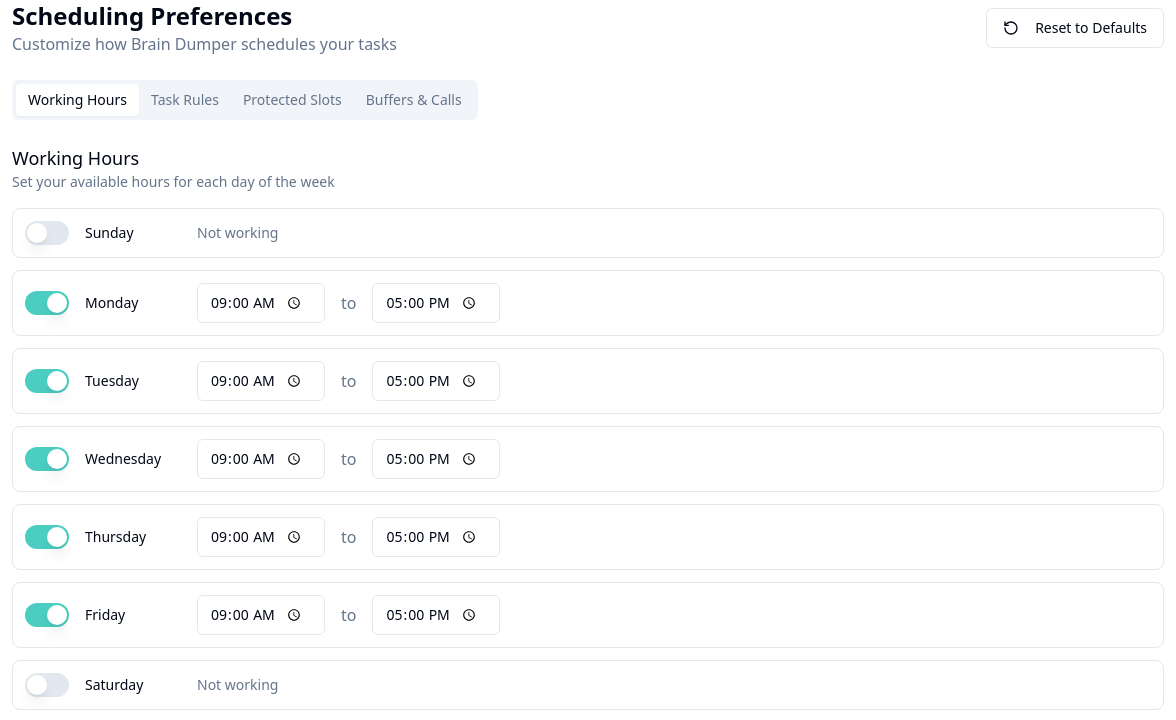
Test case: SchedulingPreferences › working hours interactions › resets changes when reset is clicked
The image size is (1176, 720).
Click the switch named "Toggle Sunday": (47, 233) [25,221,69,245]
(page scrolled)
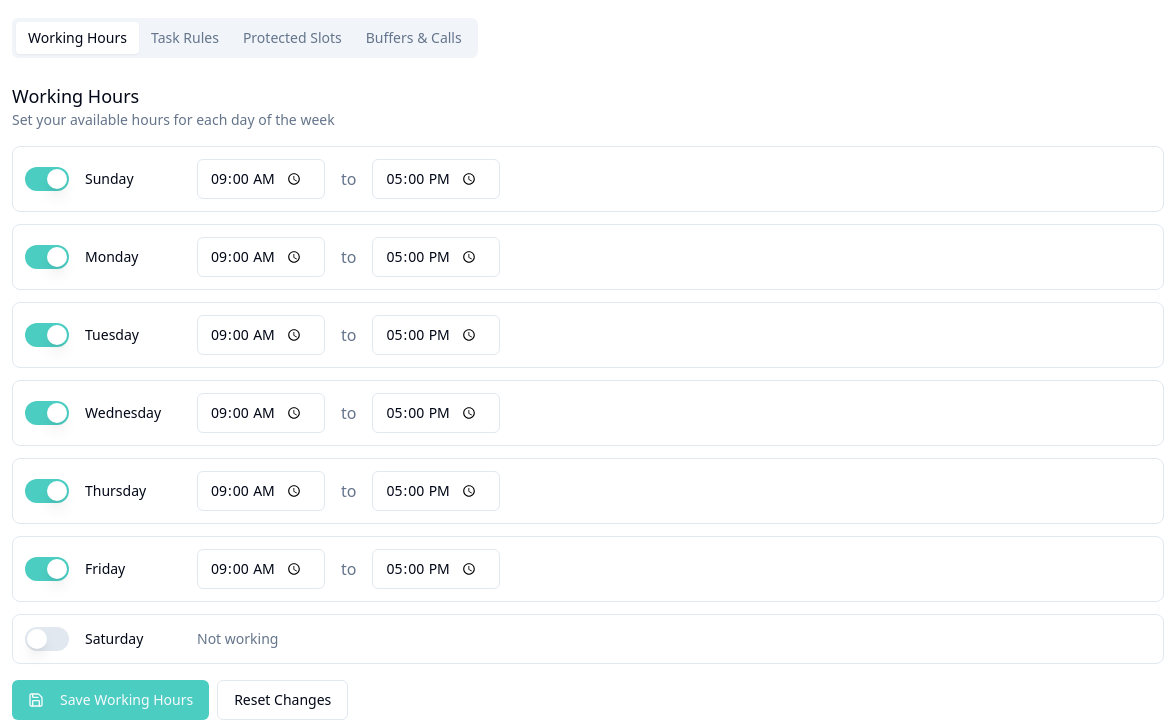
Now the button with test id "save-working-hours" is shown, box [12,680,209,719]
Click the button with test id "reset-working-hours": (283, 700) [217,680,348,719]
(page scrolled)
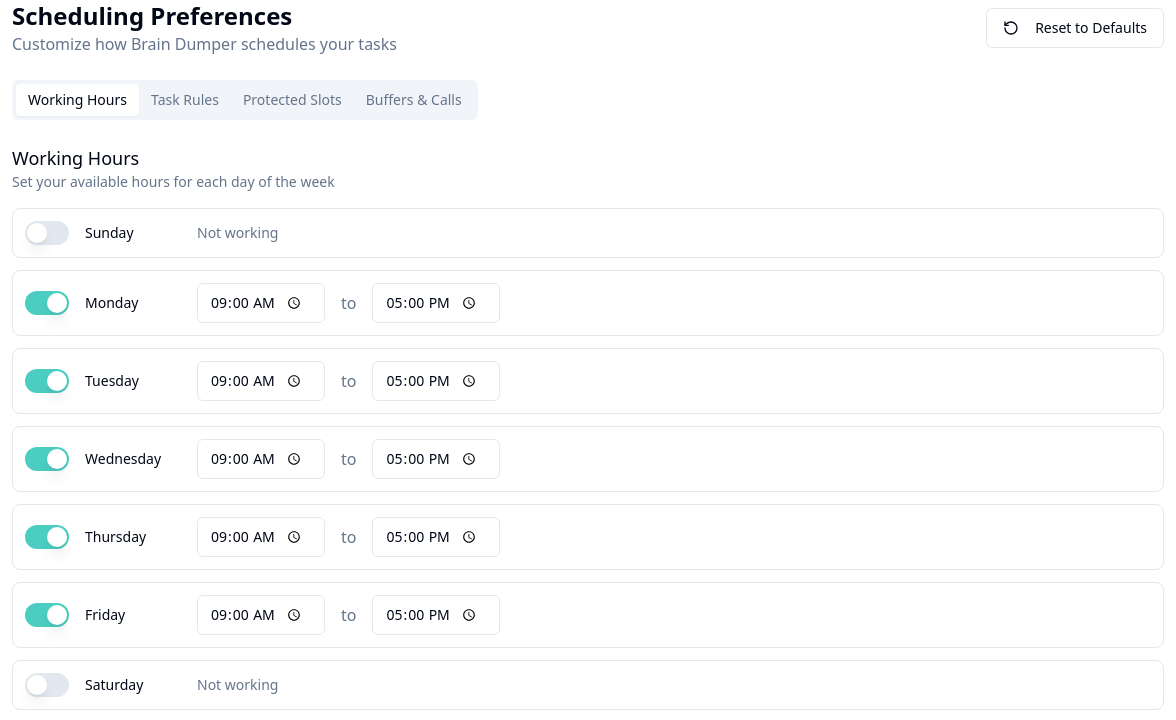
Now the button with test id "save-working-hours" is gone
